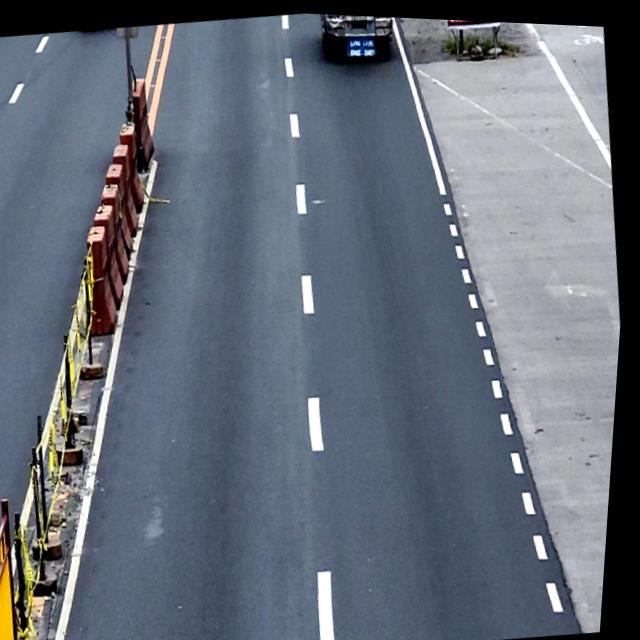Jeep: (317, 11, 397, 61)
